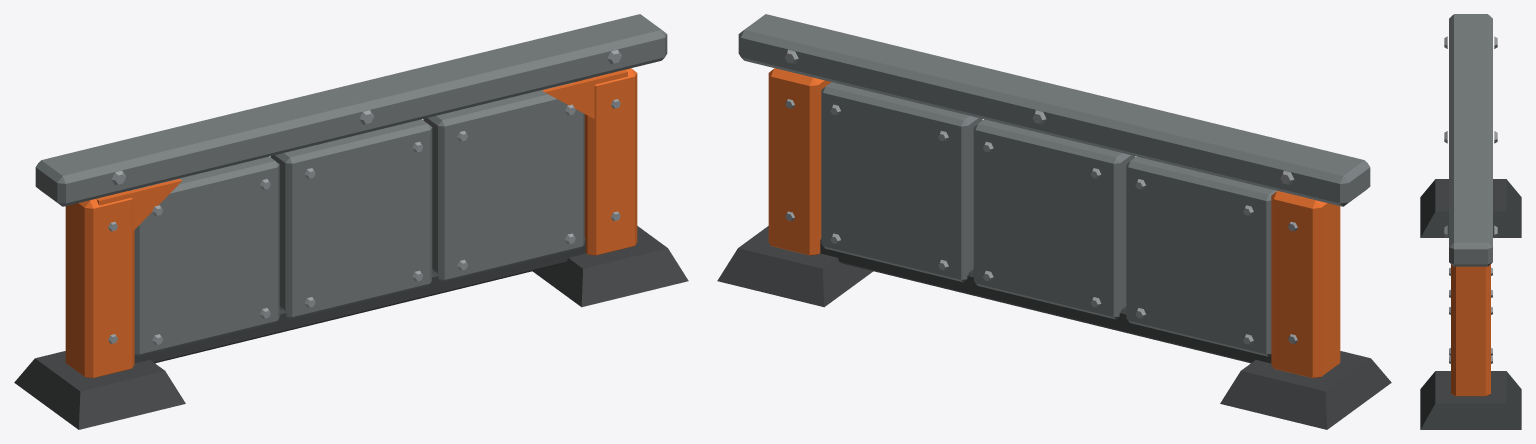
File: wsc-prop-008-yard-barrier.glb
The picture shows the model from 3 angles, left to right: view 1: azimuth 30°, elevation 25°; view 2: azimuth 150°, elevation 25°; view 3: azimuth 270°, elevation 25°; orthographic projection. The views are drawn at different scales.
Visible parts, largest first — view 1: WSC-PROP-008 | Yard barrier; view 2: WSC-PROP-008 | Yard barrier; view 3: WSC-PROP-008 | Yard barrier.
Boxes of the visible parts, x1=… form: WSC-PROP-008 | Yard barrier: x1=14, y1=14, x2=688, y2=429; WSC-PROP-008 | Yard barrier: x1=717, y1=14, x2=1391, y2=429; WSC-PROP-008 | Yard barrier: x1=1420, y1=14, x2=1521, y2=429.
Size of the model in its own units: 2.56 by 0.95 by 0.47.
